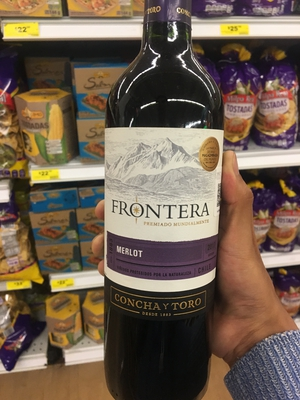frontera merlot: (98, 2, 252, 400)
